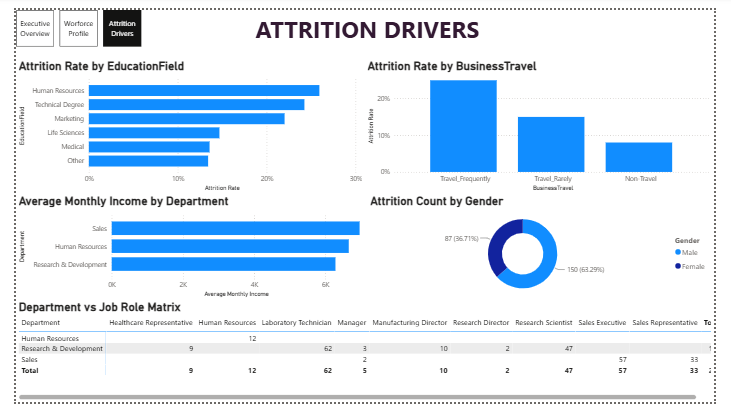

The dashboard page shown, as its layout file describes it:
{"tool":"powerbi","page":{"name":"Attrition Drivers","canvas":[1280,720],"ordinal":2},"visuals":[{"type":"textbox","box":[10,0,1270,90],"z":0},{"type":"clusteredBarChart","fields":{"Category":["cleaned_employee.EducationField"],"Y":["cleaned_employee.Attrition Rate"]},"box":[0,90,640,247.5],"z":1},{"type":"clusteredColumnChart","fields":{"Category":["cleaned_employee.BusinessTravel"],"Y":["cleaned_employee.Attrition Rate"]},"box":[640,90,640,247.5],"z":2},{"type":"clusteredBarChart","fields":{"Category":["cleaned_employee.Department"],"Y":["cleaned_employee.Average Monthly Income"]},"box":[0,337.5,645,195],"z":3},{"type":"donutChart","fields":{"Category":["cleaned_employee.Gender"],"Y":["cleaned_employee.Attrition Count"]},"box":[645,337.5,635,195],"z":4},{"type":"pivotTable","title":"Department vs Job Role Matrix","fields":{"Rows":["cleaned_employee.Department"],"Columns":["cleaned_employee.JobRole"],"Values":["cleaned_employee.Attrition Count"]},"box":[0,532.5,1280,187.5],"z":5},{"type":"pageNavigator","box":[0,0,232.5,67.5],"z":6}]}

Visuals, with their boxes in screenshot pixels (x1, y1, x2, y2), scaled from the page's 1280x720 canvas onto the 731x413 screenshot:
textbox: left=6, top=0, right=730, bottom=52
clusteredBarChart - cleaned_employee.EducationField x cleaned_employee.Attrition Rate: left=0, top=52, right=366, bottom=194
clusteredColumnChart - cleaned_employee.BusinessTravel x cleaned_employee.Attrition Rate: left=366, top=52, right=730, bottom=194
clusteredBarChart - cleaned_employee.Department x cleaned_employee.Average Monthly Income: left=0, top=194, right=368, bottom=305
donutChart - cleaned_employee.Gender x cleaned_employee.Attrition Count: left=368, top=194, right=730, bottom=305
"Department vs Job Role Matrix" pivotTable: left=0, top=305, right=730, bottom=412
pageNavigator: left=0, top=0, right=133, bottom=39
